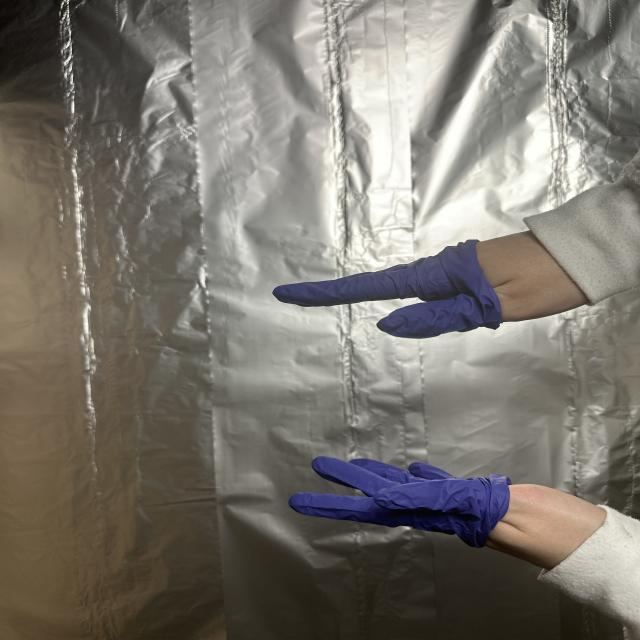glove_partial: (287, 453, 614, 572), (266, 226, 603, 341)
